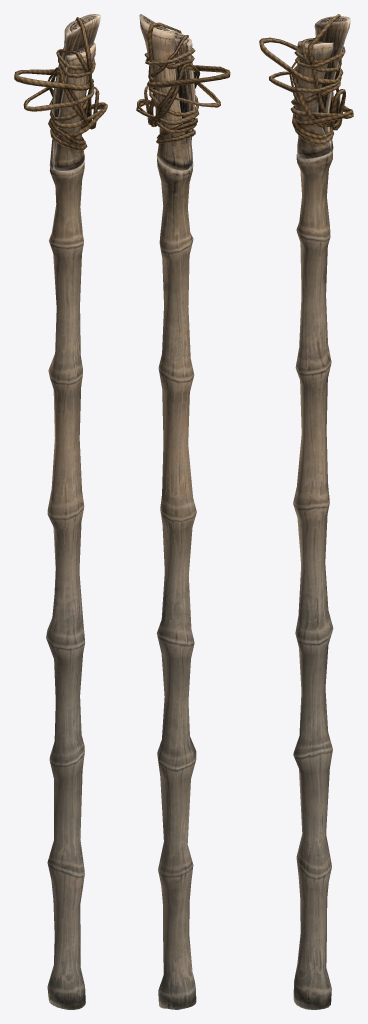
Rendered from Weapon.fbx.
3 renders of one model, left to right at view 1: azimuth 30°, elevation 25°; view 2: azimuth 150°, elevation 25°; view 3: azimuth 330°, elevation 25°, orthographic.
Parts seen in each view (by area): view 1: SM_CorruptVillager_Weapon.mo; view 2: SM_CorruptVillager_Weapon.mo; view 3: SM_CorruptVillager_Weapon.mo.
Part boxes in pixels (x1=…): SM_CorruptVillager_Weapon.mo: x1=14, y1=14, x2=107, y2=1009; SM_CorruptVillager_Weapon.mo: x1=136, y1=14, x2=230, y2=1009; SM_CorruptVillager_Weapon.mo: x1=259, y1=14, x2=353, y2=1009.
Bounding box in the file's own units: 18.62 × 191 × 9.7.
1 material, 1 textured.
